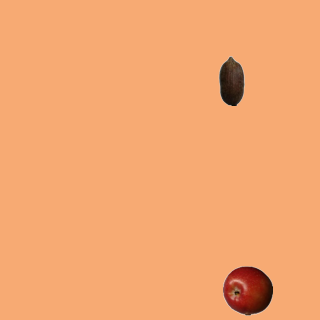Apple Braeburn: (222, 265, 272, 315)
Nut Pecan: (206, 55, 256, 105)
